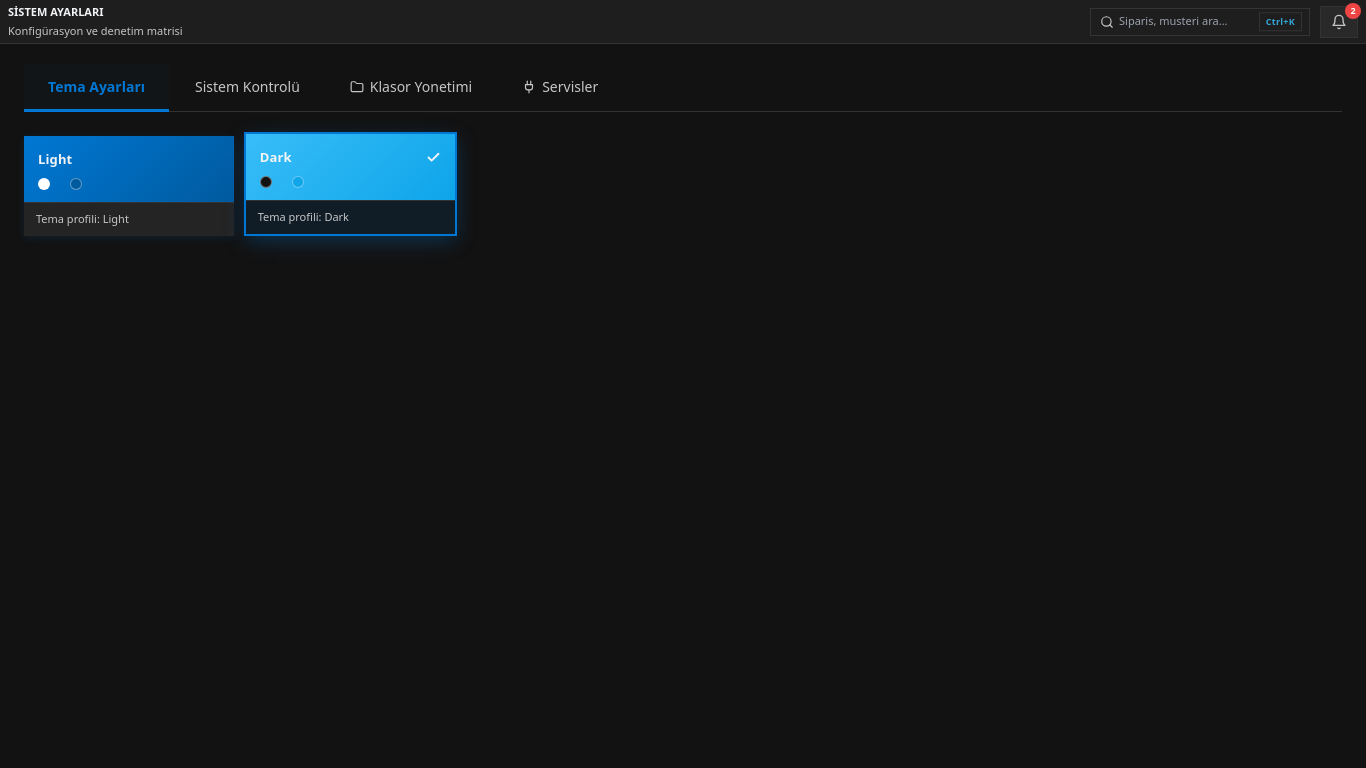
Test: ConfigPage › sistem kontrolü sekmesinde system config ve denetim sonucunu yükler
Click the button "Sistem Kontrolü" at (247, 88), box [171,64,324,112]
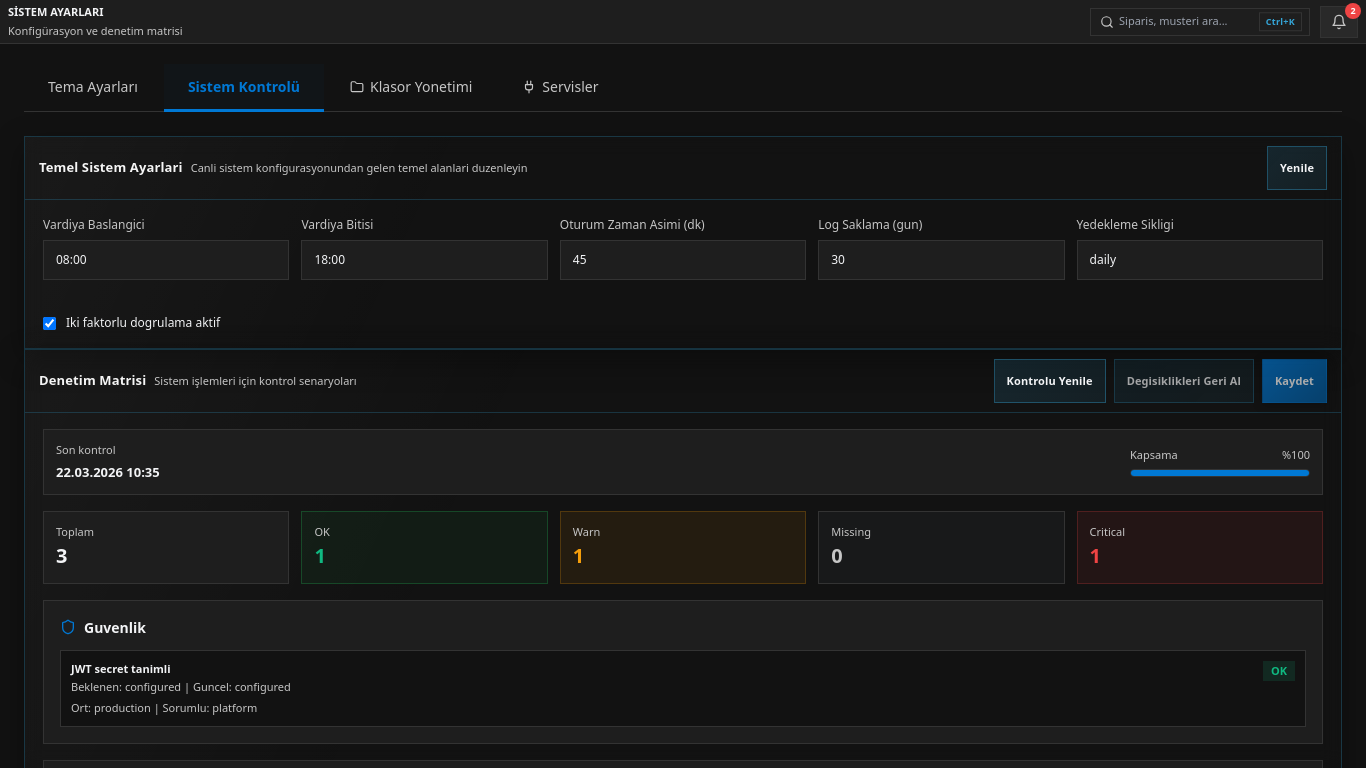
Expected: the text "Temel Sistem Ayarlari" is shown, [39,160,183,176]
Expected: the field showing "08:00" is shown, [43,240,289,280]
Expected: the text "Toplam" is shown, [56,524,94,539]
